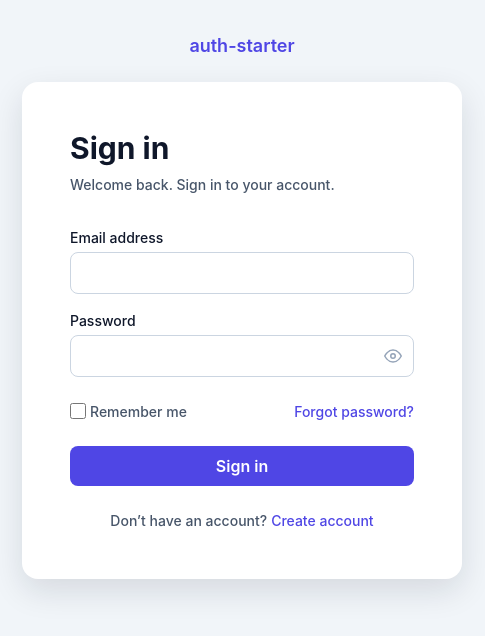
Test: LoginPage › Form validation › shows email error for invalid email format
Type "notanemail" into the field labelled "Email address".
click(242, 272); type("notanemail")  # box left=70, top=252, right=414, bottom=294
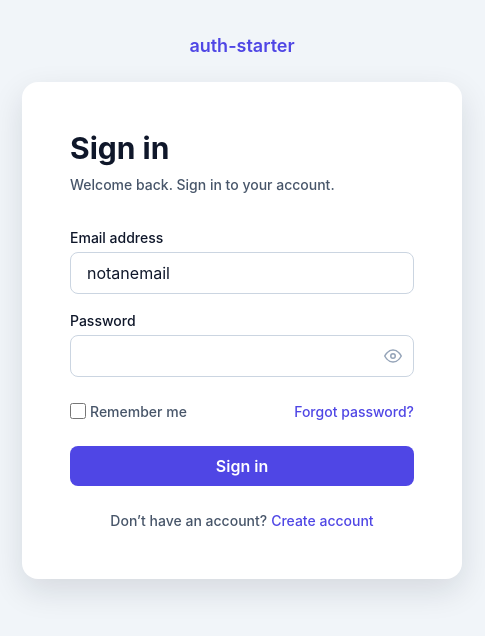
Submit the form
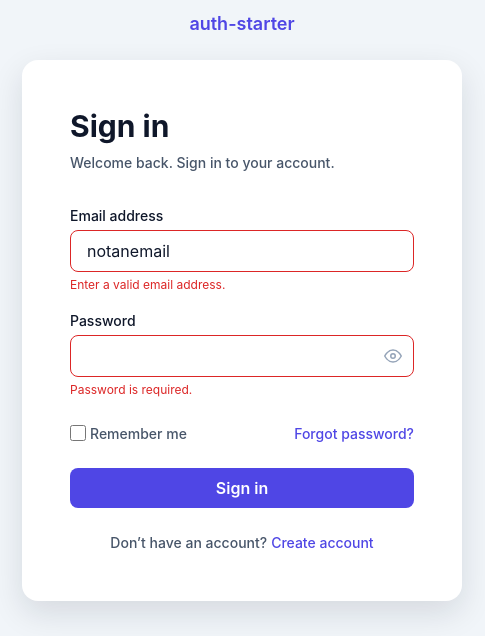
Expected: the text "Enter a valid email address." is shown, left=70, top=276, right=225, bottom=292
